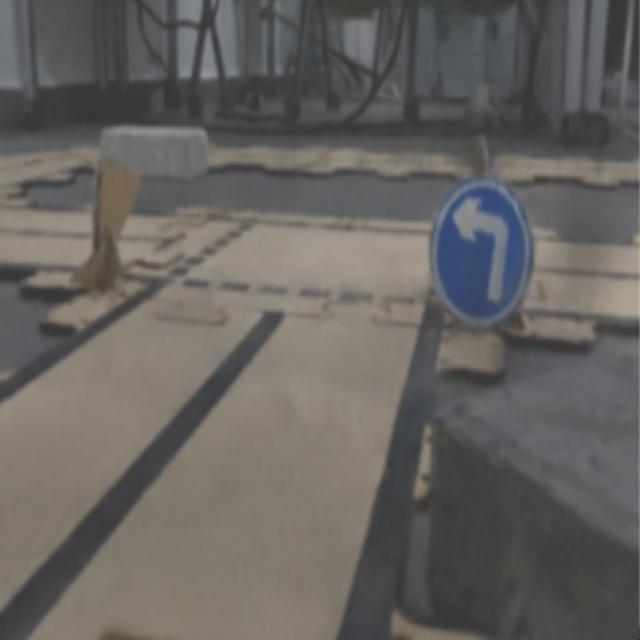LEFT: (430, 176, 532, 325)
